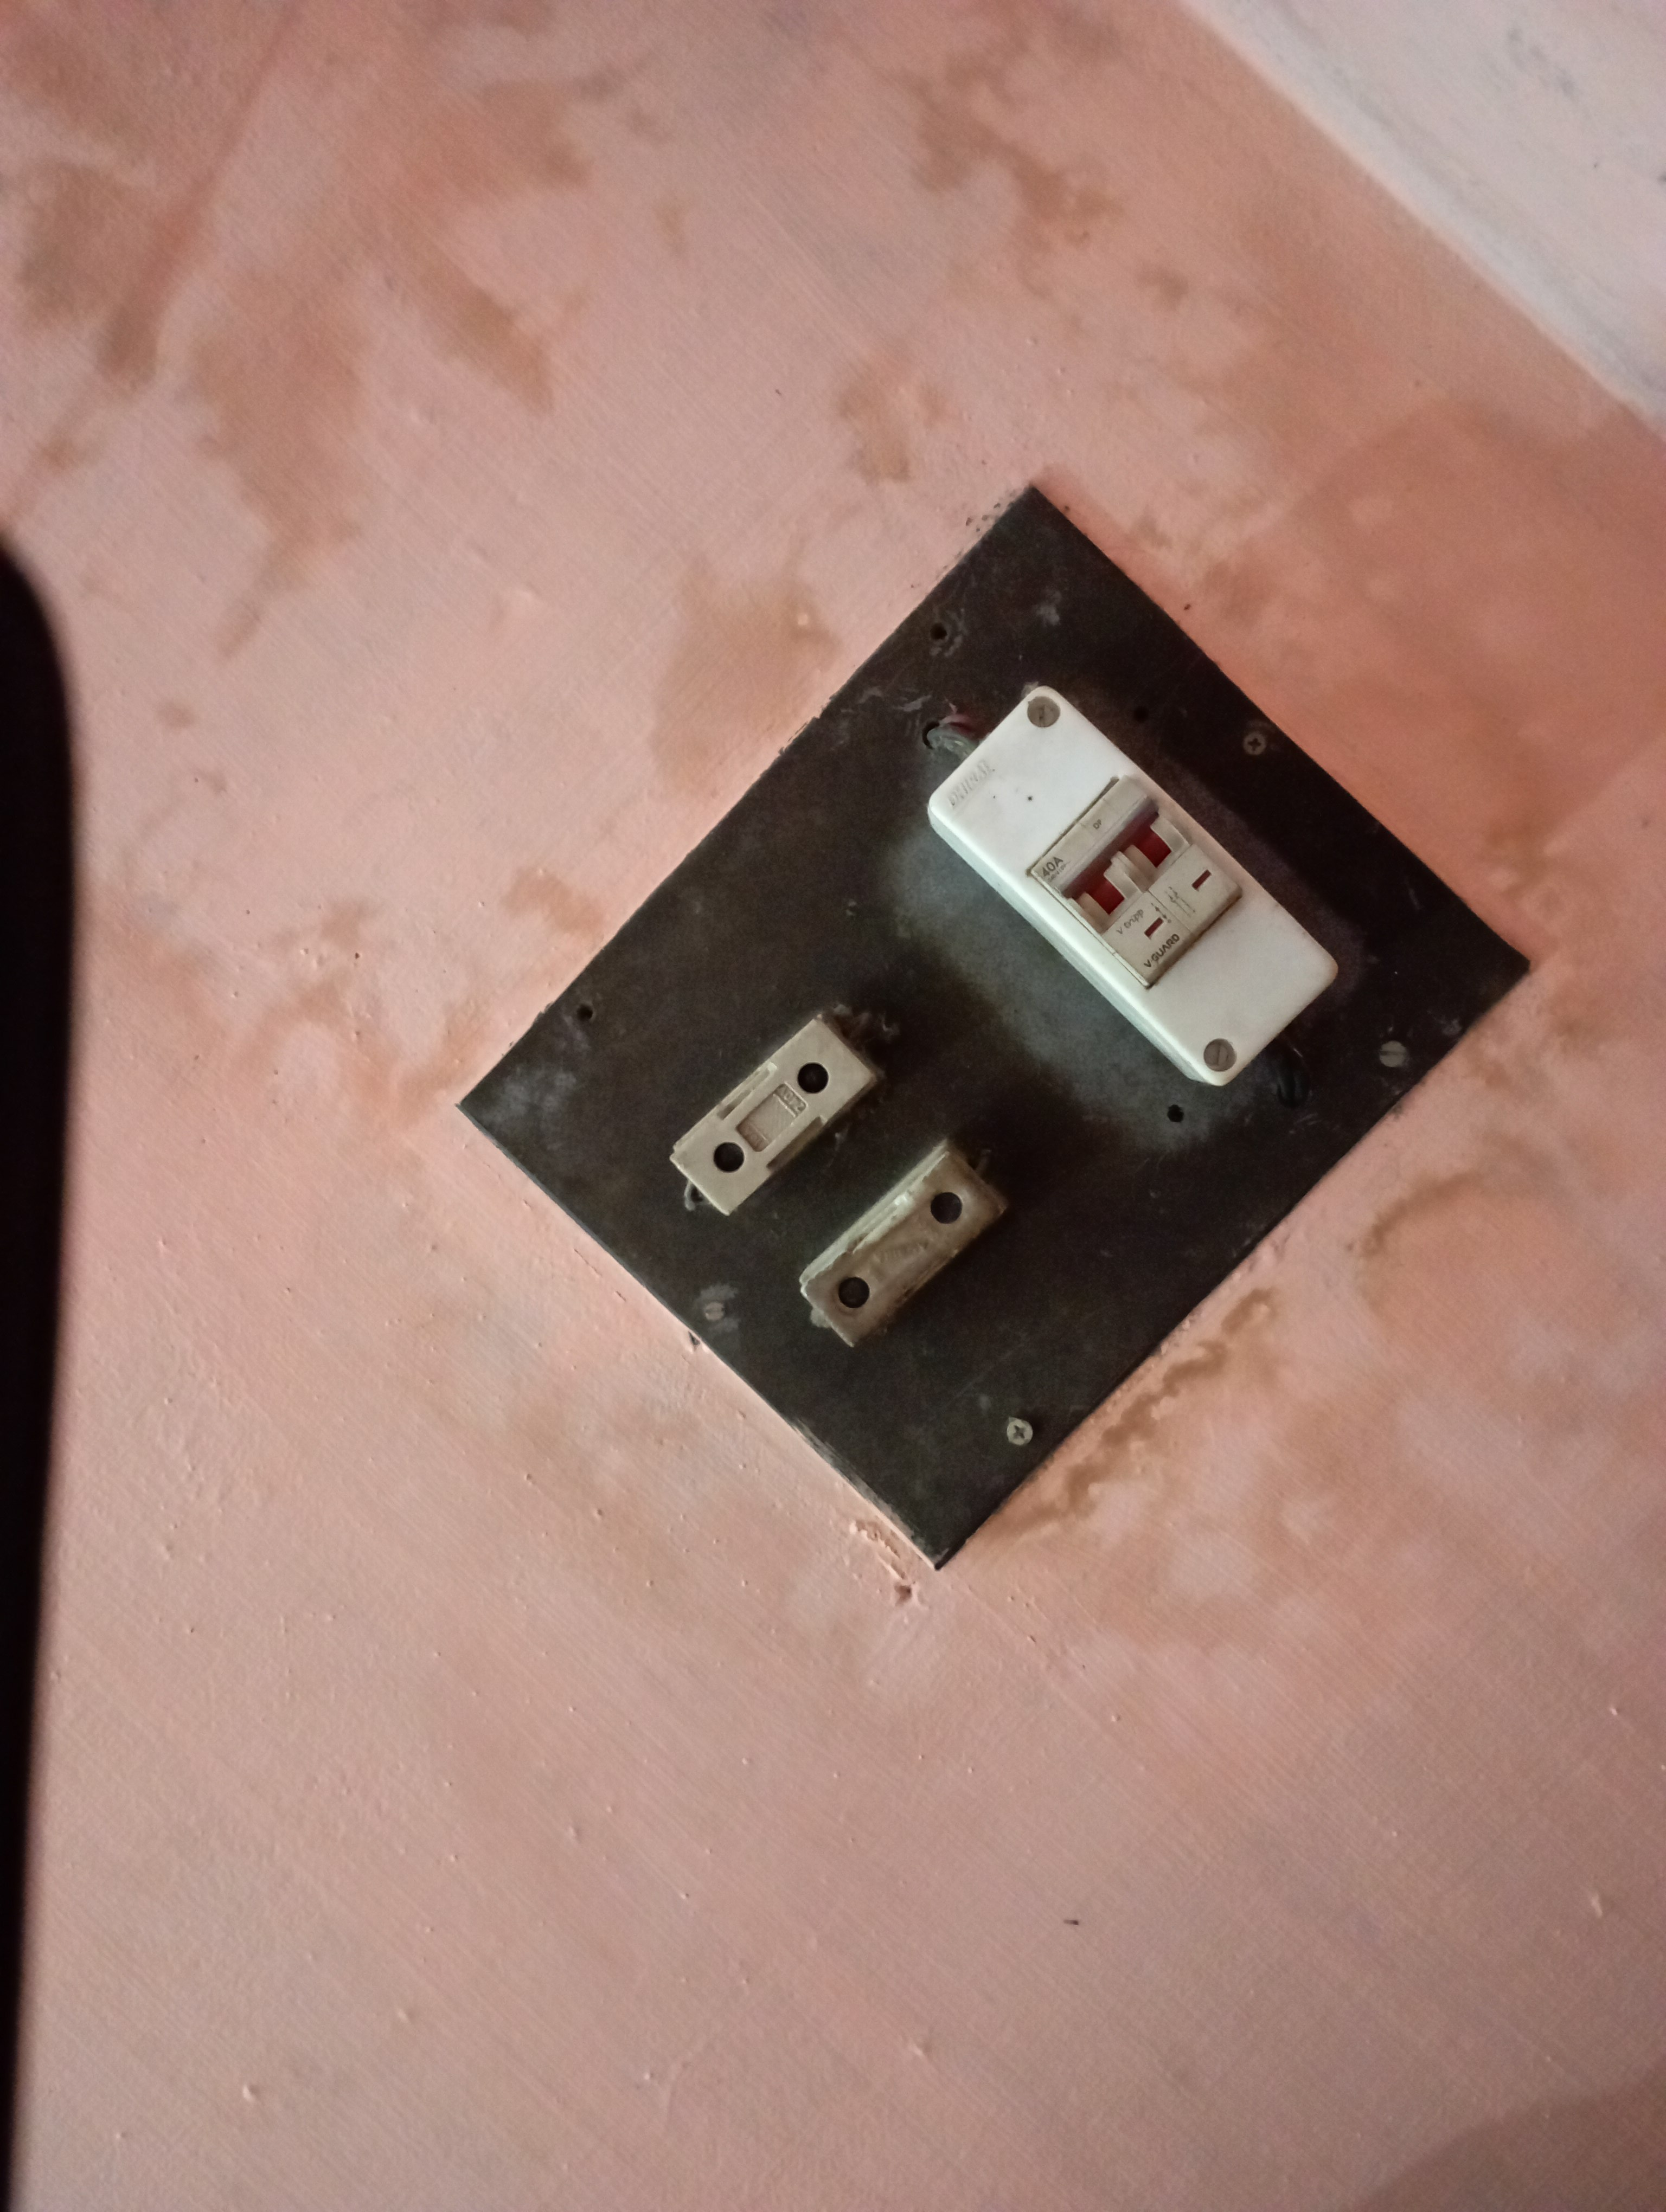ciruit_breaker: (912, 630, 1376, 1128)
fuse: (772, 1102, 1045, 1388), (648, 991, 882, 1261)
